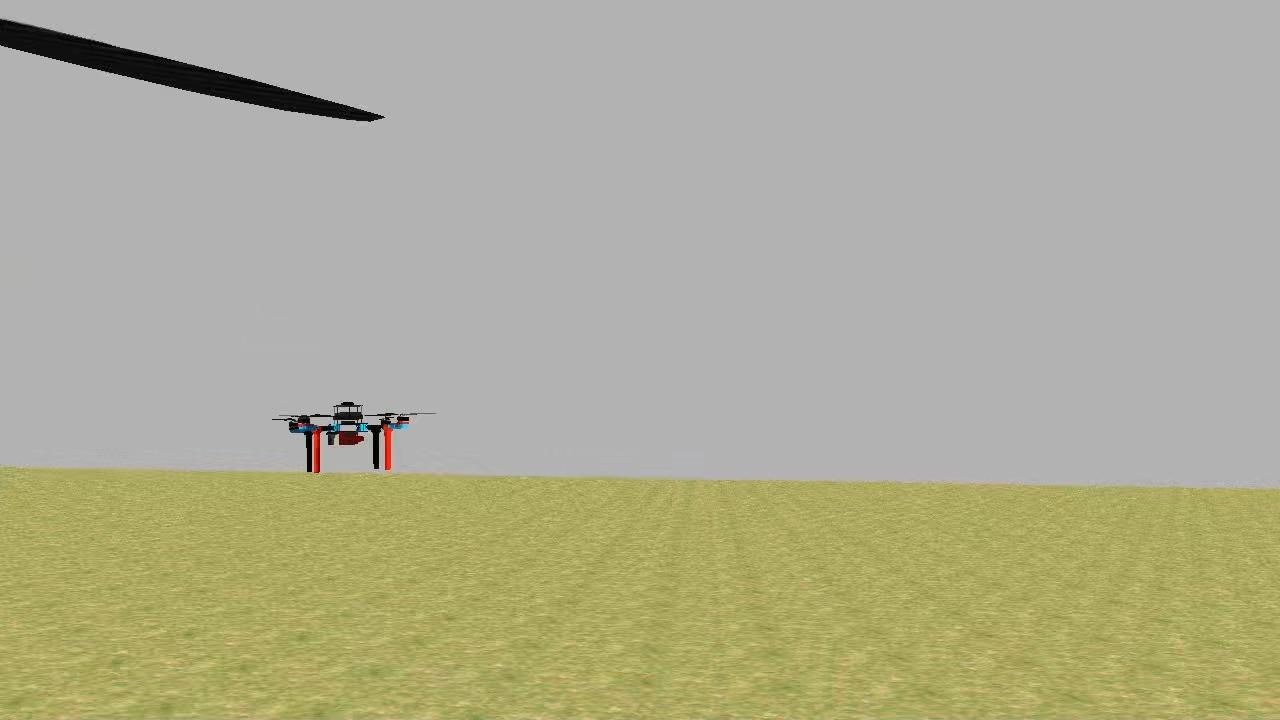UAV: (286, 396, 414, 476)
